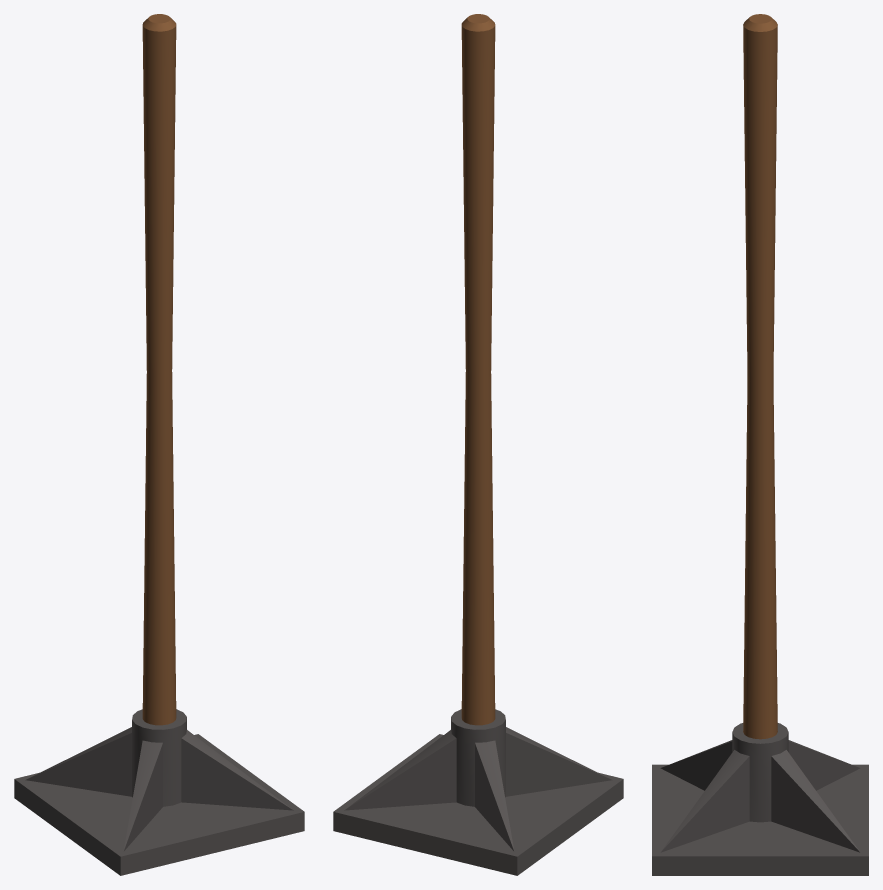
3 renders of one model, left to right at view 1: azimuth 30°, elevation 25°; view 2: azimuth 150°, elevation 25°; view 3: azimuth 270°, elevation 25°, orthographic.
Parts seen in each view (by area): view 1: Tamper - 218; view 2: Tamper - 218; view 3: Tamper - 218.
Part boxes in pixels (<box>): Tamper - 218: <box>14,14,304,875</box>; Tamper - 218: <box>333,14,623,875</box>; Tamper - 218: <box>652,14,868,875</box>.
Size of the model in its own units: 0.25 by 1.03 by 0.25.
Materials: 1 (1 with a texture image).
